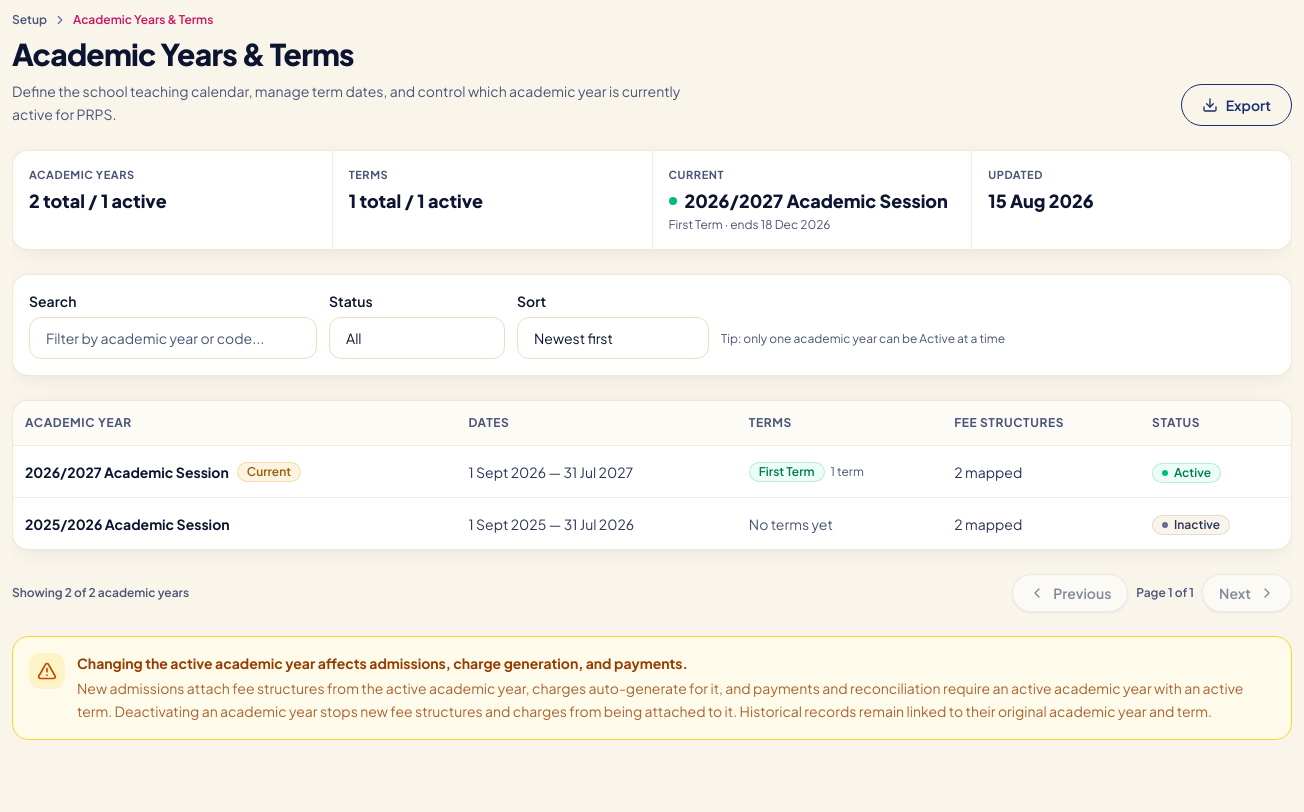
Scenario: SessionsPage › filters academic years with the search box
Type "2025" into the field labelled "Search" at (173, 338), box 29,317 -> 317,359
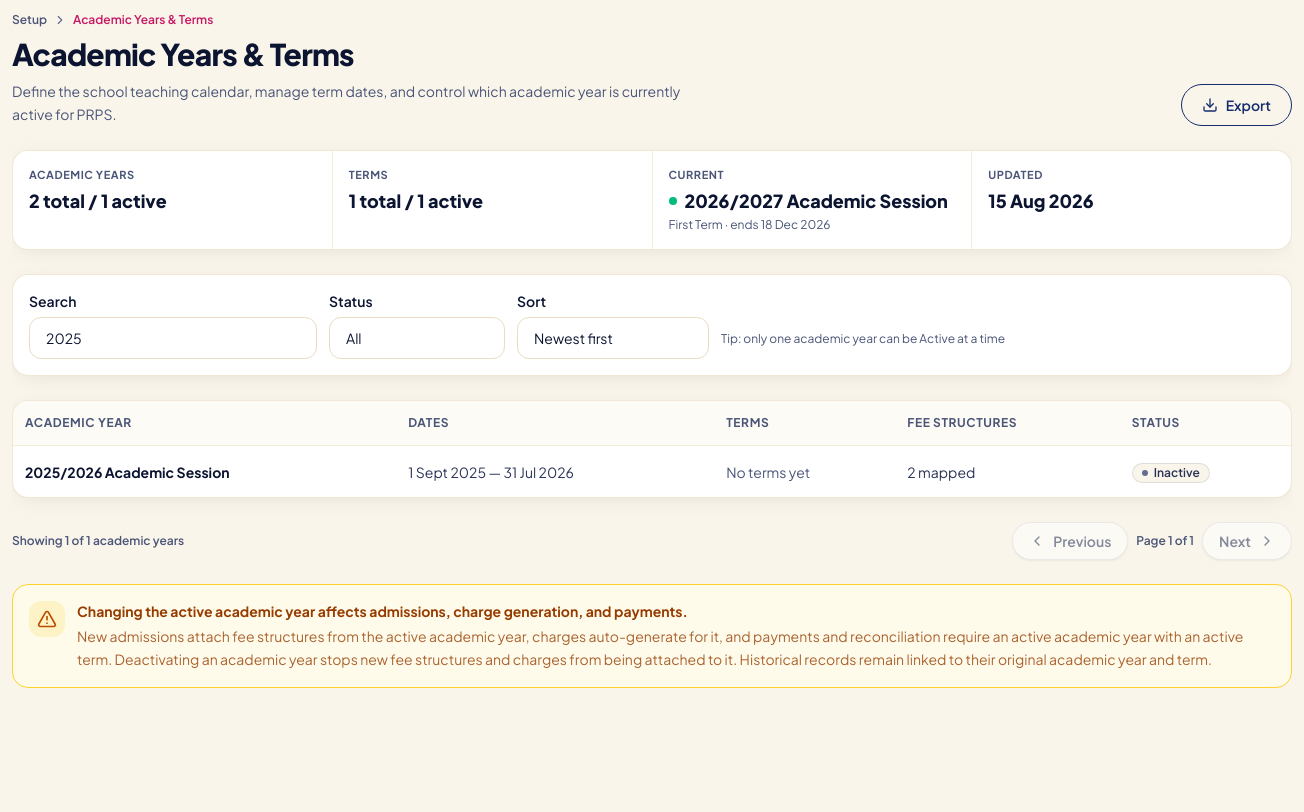
Check: the text "2025/2026 Academic Session" is shown, box 25,462 -> 230,482
Check: the text "Showing 1 of 1 academic years" is shown, box 12,533 -> 184,549
